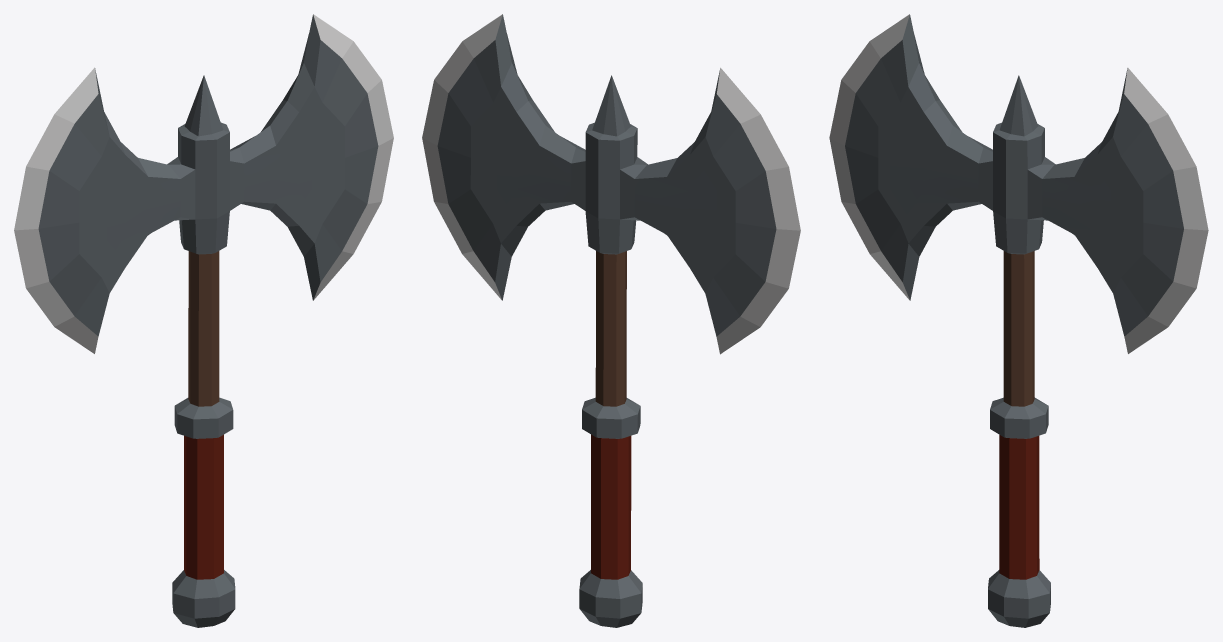
Rendered from Battleaxe.glb.
3 renders of one model, left to right at view 1: azimuth 30°, elevation 25°; view 2: azimuth 150°, elevation 25°; view 3: azimuth 330°, elevation 25°, orthographic.
Visible parts, largest first — view 1: Axe_05; view 2: Axe_05; view 3: Axe_05.
Part boxes in pixels (x1=…): Axe_05: x1=14, y1=14, x2=393, y2=627; Axe_05: x1=422, y1=14, x2=800, y2=627; Axe_05: x1=829, y1=14, x2=1208, y2=627.
Bounding box in the file's own units: 0.5482 × 0.7986 × 0.0769.
1 material, 1 textured.
